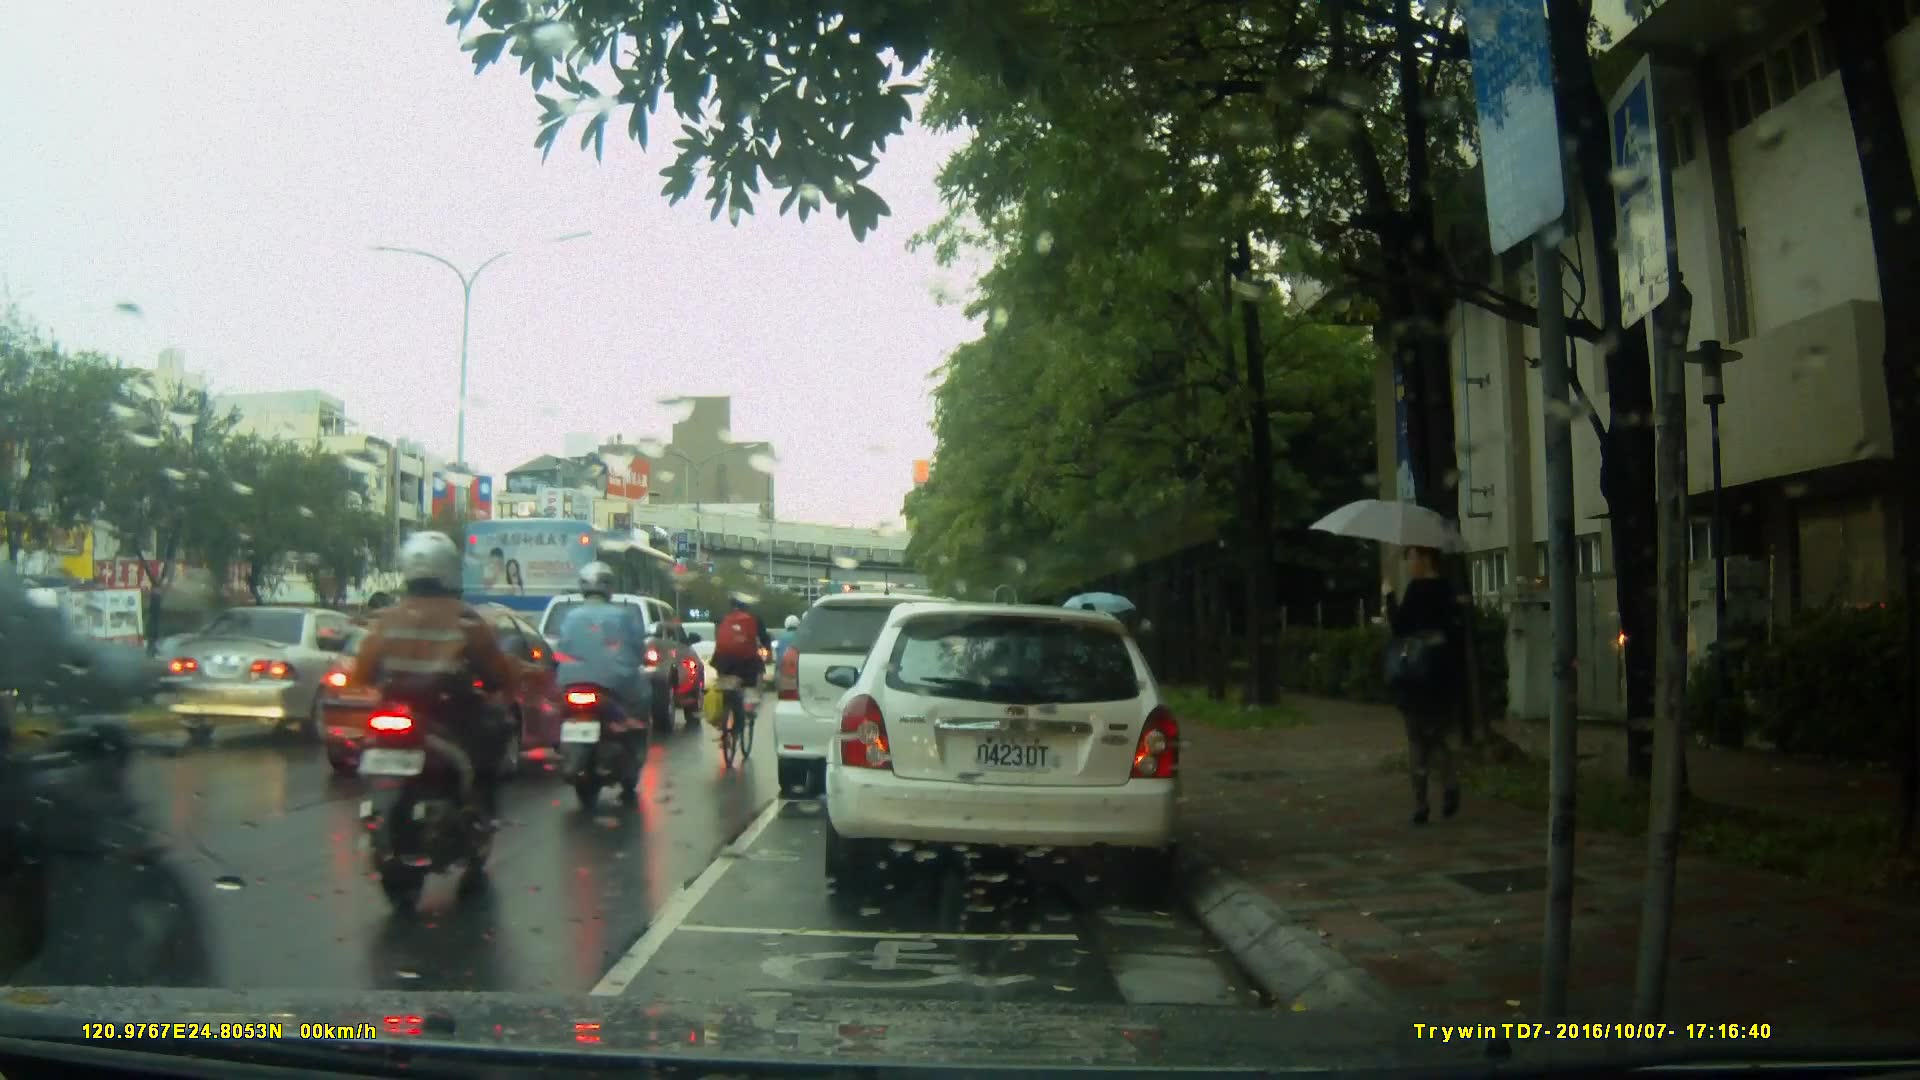pedestrian: (1372, 538, 1499, 833)
rider: (1, 412, 244, 1078), (347, 526, 525, 904), (560, 567, 662, 809), (708, 595, 778, 772)
vehicle: (835, 594, 1194, 898), (310, 601, 589, 784), (776, 590, 1026, 784), (456, 513, 698, 673), (161, 604, 404, 746), (517, 589, 706, 723)
